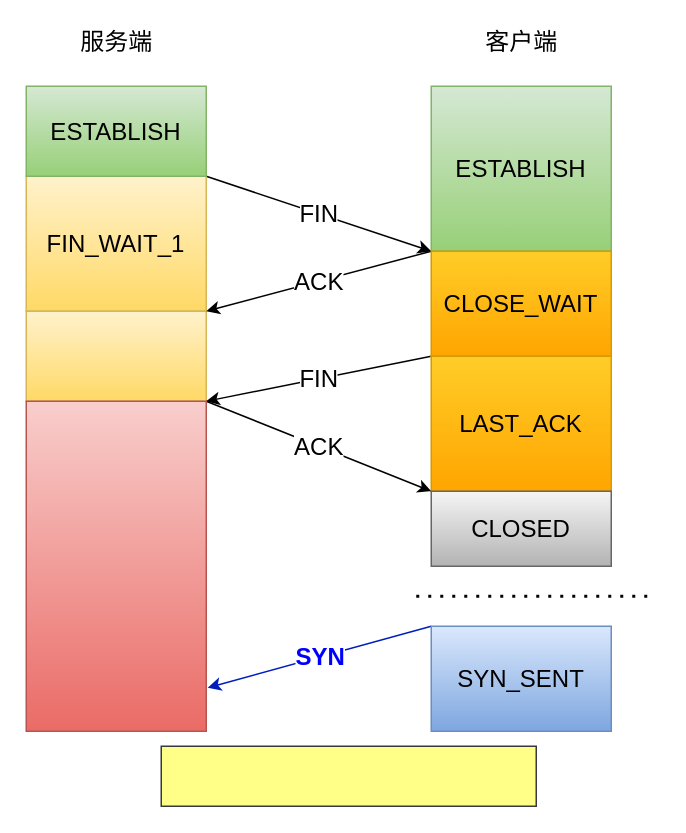
The diagram is 686 pixels wide and 833 high, and some of its shapes have lost their labels. The shapes that lost their labels are listed below. From the top down, each one's box as (x1, y1, x2, y2) in pixels, then its label:
(25, 310, 206, 401): FIN_WAIT_2
(25, 400, 206, 731): TIME_WAIT
(160, 745, 536, 806): 处于 TIME_WAIT 状态收到 相同四元组的 SYN 会发生什么？
